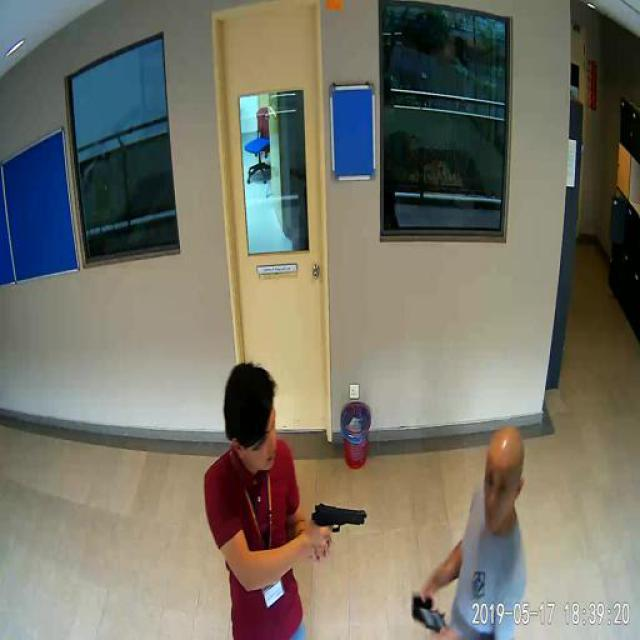Gun: (310, 502, 365, 554)
